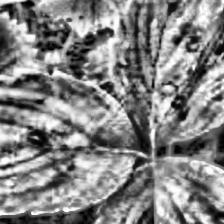Leaf Spot: (0, 68, 141, 218), (109, 0, 224, 147), (88, 154, 224, 224)
